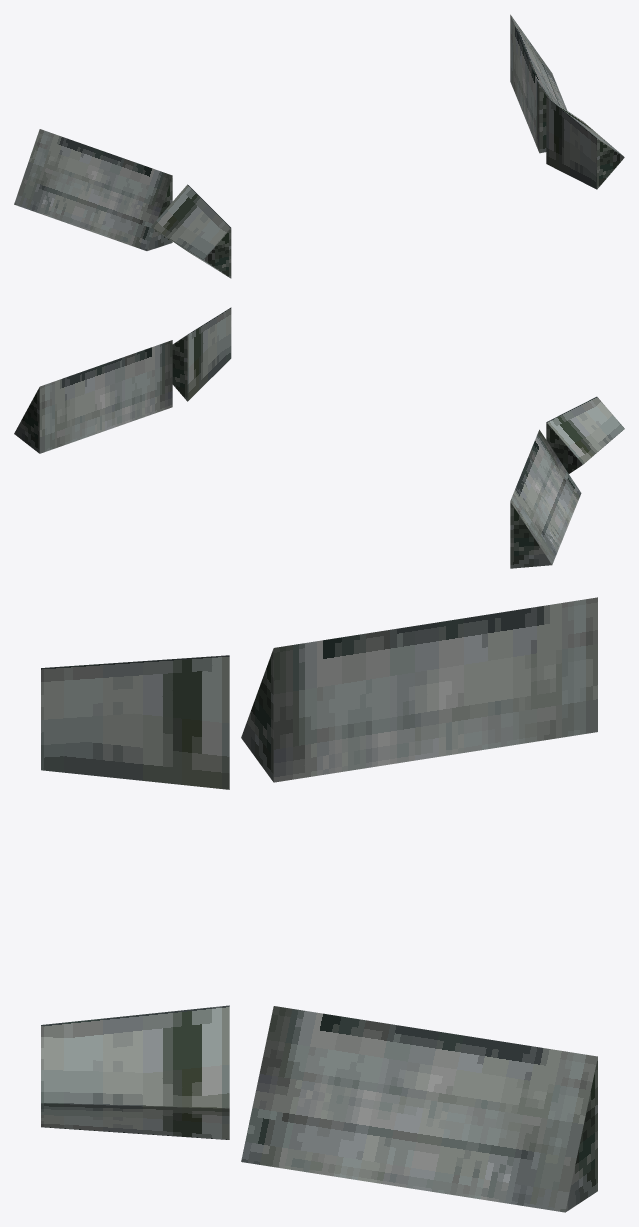
Rendered from kse_firespray_weapon2_s04_l2.fbx.
The picture shows the model from 3 angles, top to bottom: view 1: azimuth 30°, elevation 25°; view 2: azimuth 150°, elevation 25°; view 3: azimuth 270°, elevation 25°; orthographic projection. The views are drawn at different scales.
Visible parts, largest first — view 1: mesh_node; view 2: mesh_node; view 3: mesh_node.
Part boxes in pixels (x1,y1,x2,y2): mesh_node: (14,14,624,278); mesh_node: (14,307,624,568); mesh_node: (41,597,597,1212).
Bounding box in the file's own units: 5.74 × 0.7029 × 2.57.
Materials: 1 (1 with a texture image).
